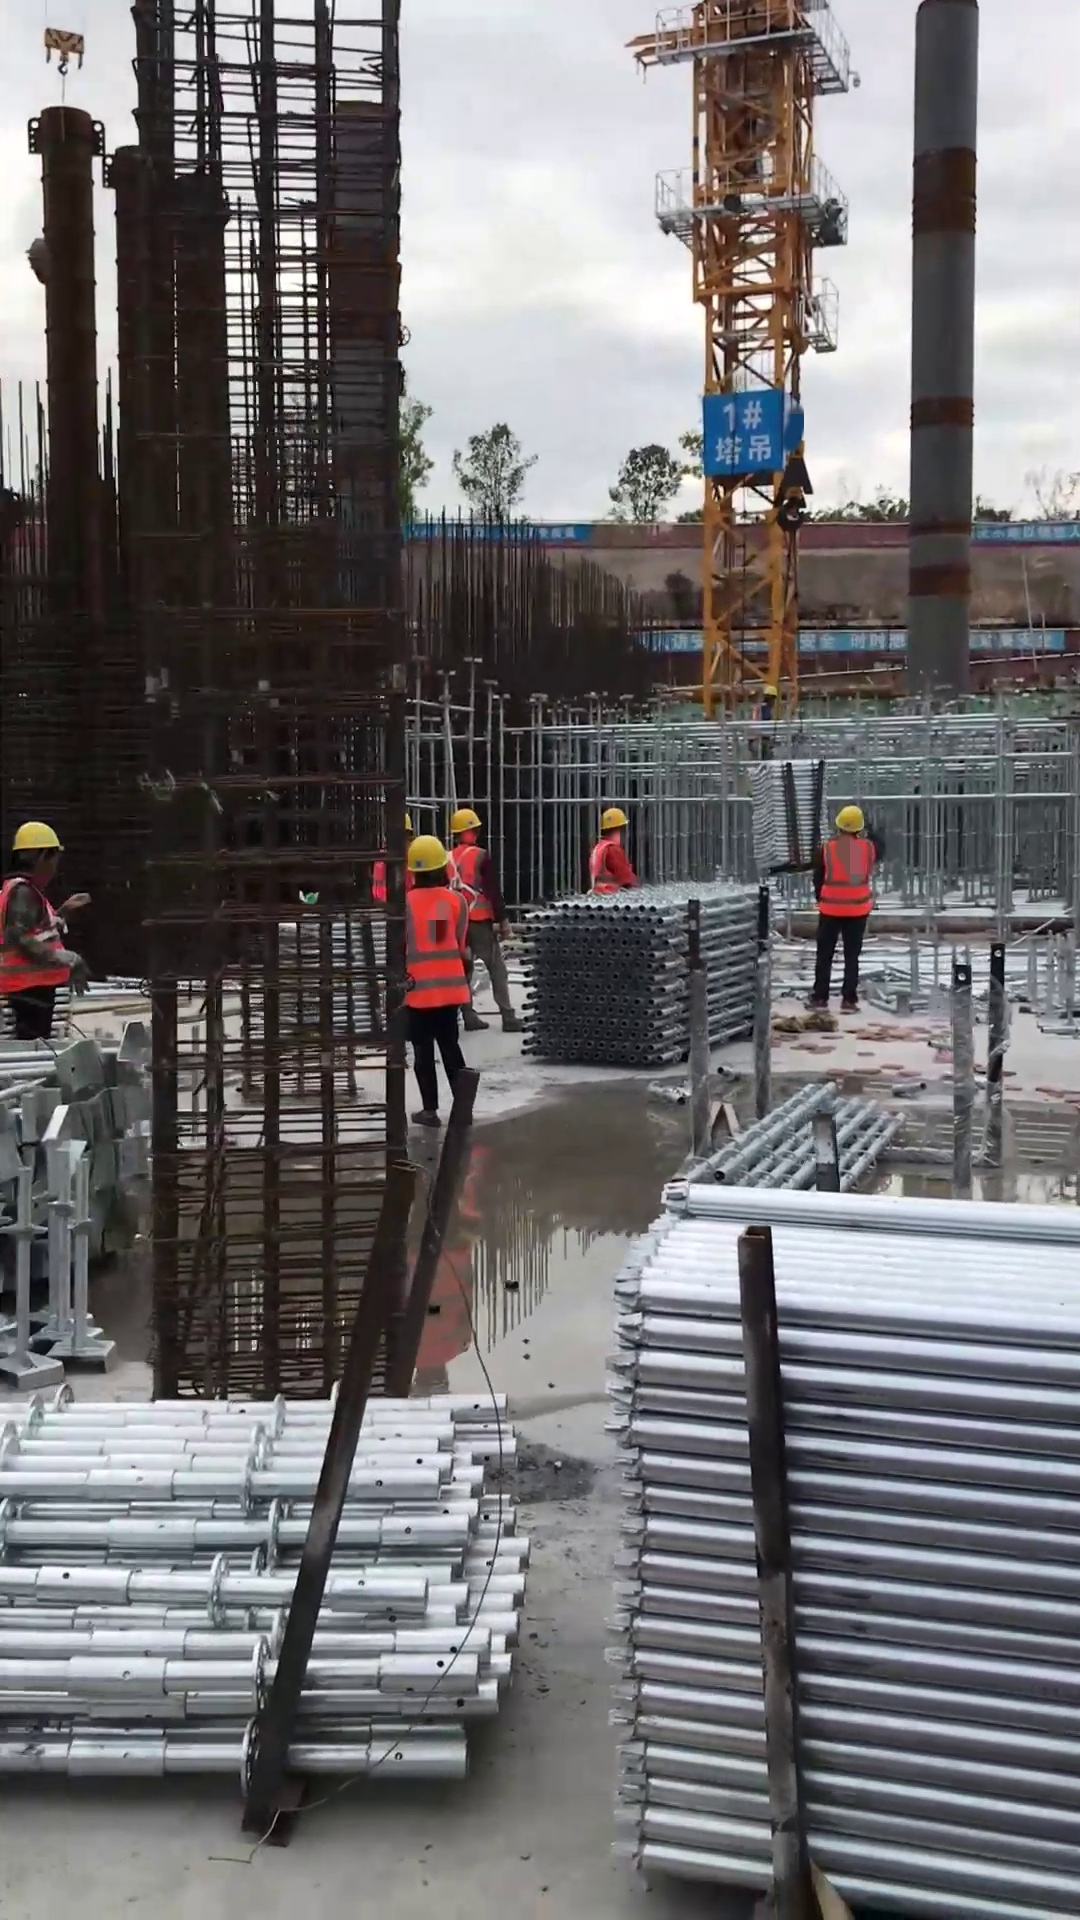helmet: (10, 818, 66, 863), (406, 832, 448, 871), (596, 805, 631, 833), (449, 807, 484, 836), (833, 803, 867, 834), (762, 683, 778, 697)
hook: (769, 430, 816, 537), (41, 24, 87, 79)
person: (402, 830, 483, 1132), (1, 816, 93, 1039), (445, 806, 528, 1035), (801, 801, 885, 1013), (586, 801, 640, 893), (744, 682, 778, 765)
scaffold: (609, 1179, 1078, 1920), (1, 1391, 532, 1787), (518, 882, 790, 1070), (678, 1079, 903, 1197), (748, 759, 832, 877)
slogan: (705, 389, 785, 473), (407, 520, 589, 544), (971, 520, 1080, 544), (799, 626, 909, 651), (968, 627, 1064, 654), (640, 625, 707, 652)
vest: (404, 884, 473, 1011), (1, 875, 75, 995), (817, 836, 877, 919), (446, 841, 495, 924), (367, 846, 413, 907), (587, 836, 620, 895)
